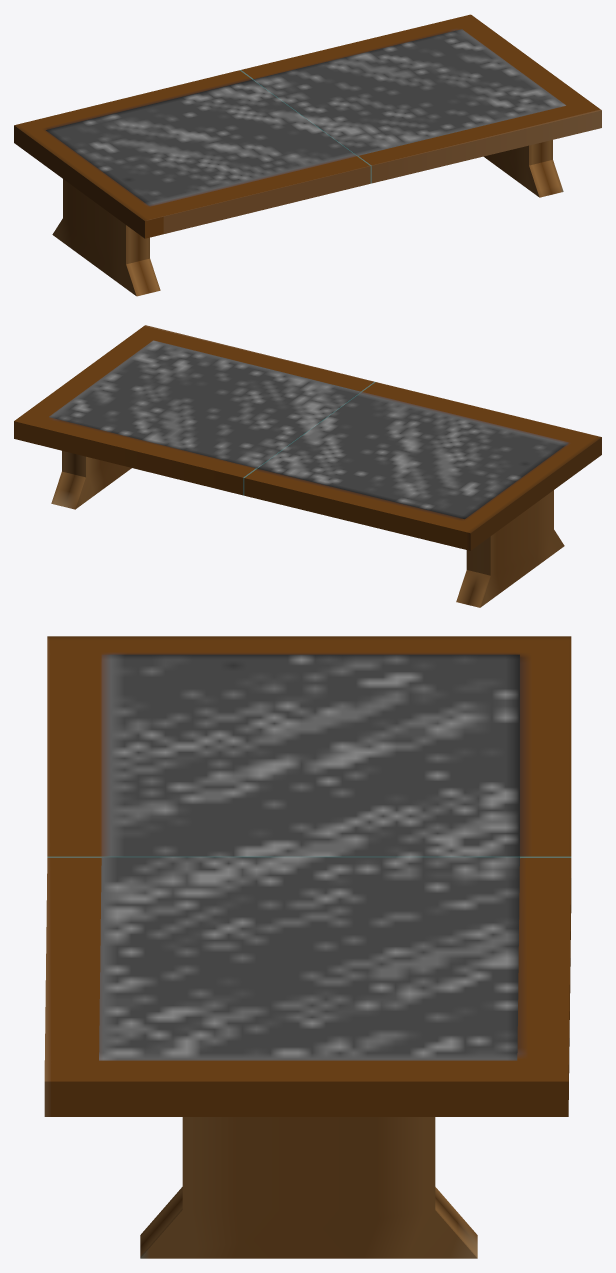
File: table_964x03.obj
The picture shows the model from 3 angles, top to bottom: view 1: azimuth 30°, elevation 25°; view 2: azimuth 150°, elevation 25°; view 3: azimuth 270°, elevation 25°; orthographic projection. The views are drawn at different scales.
Parts seen in each view (by area): view 1: Table_964x3; view 2: Table_964x3; view 3: Table_964x3.
Part boxes in pixels (x1,y1,x2,y2): Table_964x3: (14,14,601,296); Table_964x3: (14,325,601,607); Table_964x3: (44,636,571,1258).
Bounding box in the file's own units: 10 × 2 × 5.
